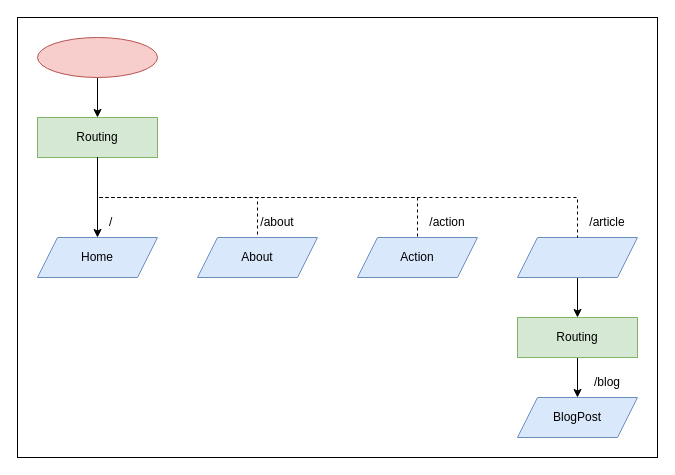
Some shapes in this 675 by 475 pixel diagram are drawn without their labels. The centre of each missing label's shape, as x and y in pixels:
Article: [577,257]
Start: [97,57]
